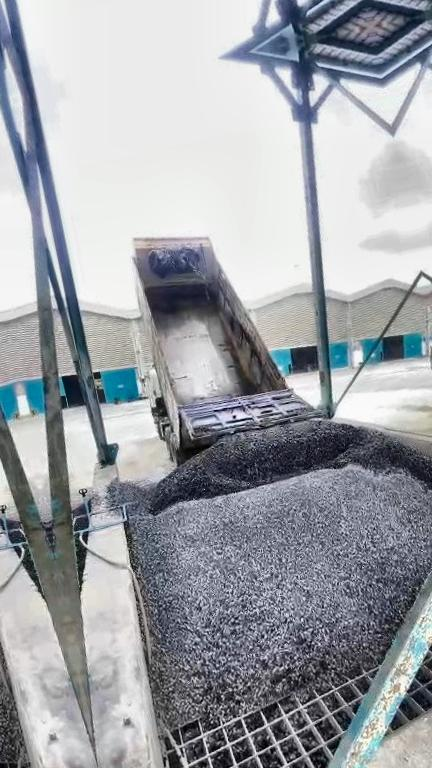gravel: (103, 422, 432, 727), (72, 502, 88, 531)
sand: (419, 402, 432, 440)
